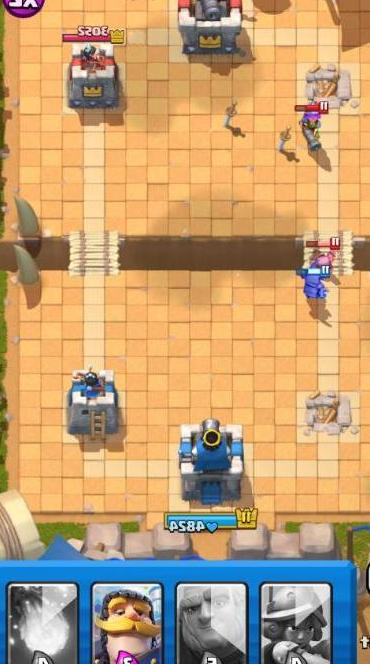enemy_mini_pekka: (301, 236, 345, 268)
enemy_musketeer: (291, 98, 335, 157)
player_mini_pekka: (293, 261, 335, 303)
